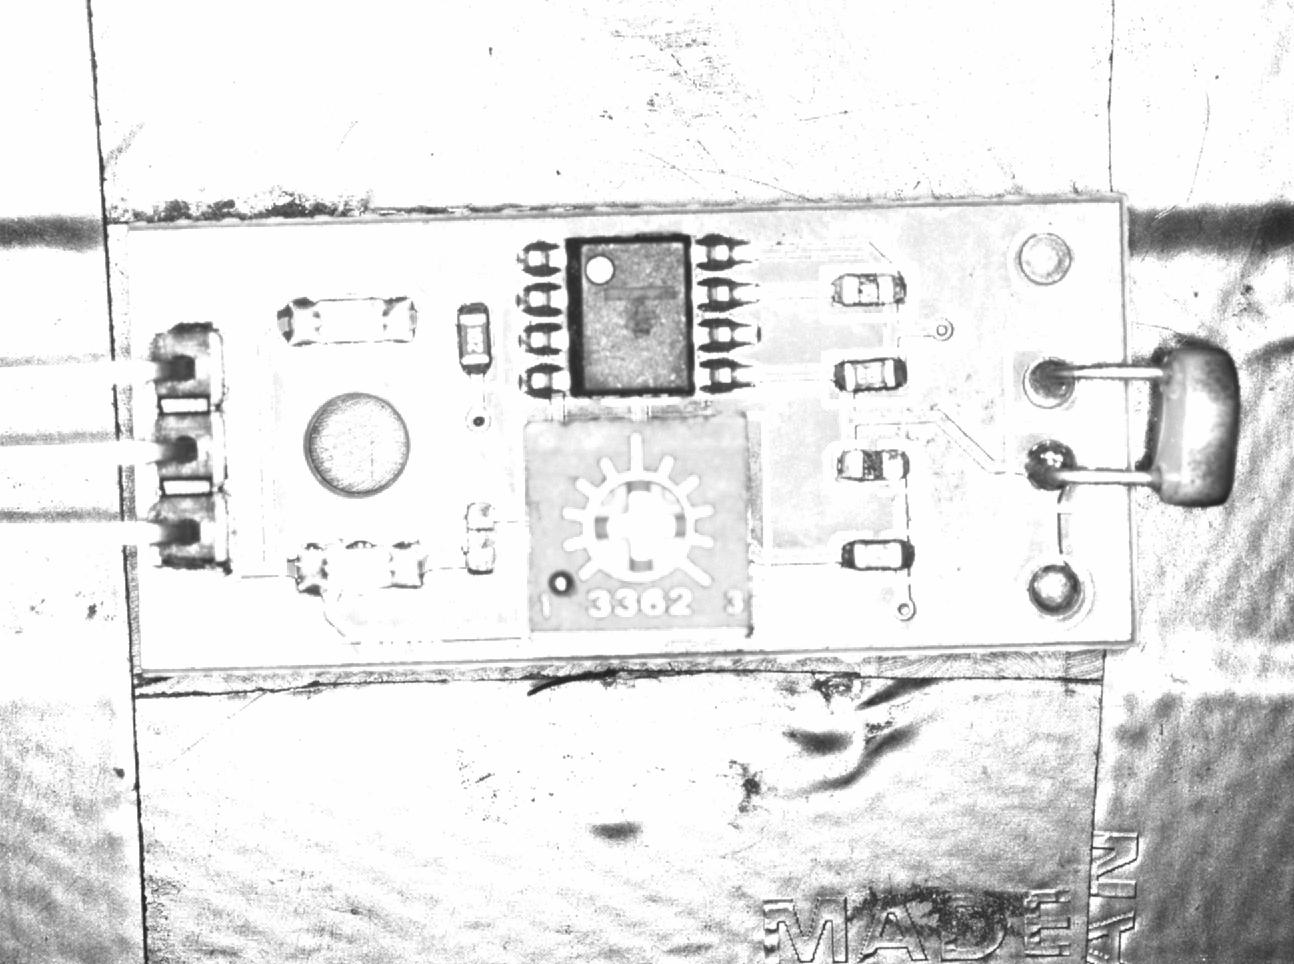miss: (456, 488, 508, 586), (820, 445, 920, 493), (824, 263, 909, 316)
ok: (449, 290, 503, 384), (825, 346, 913, 401), (828, 530, 916, 579)
